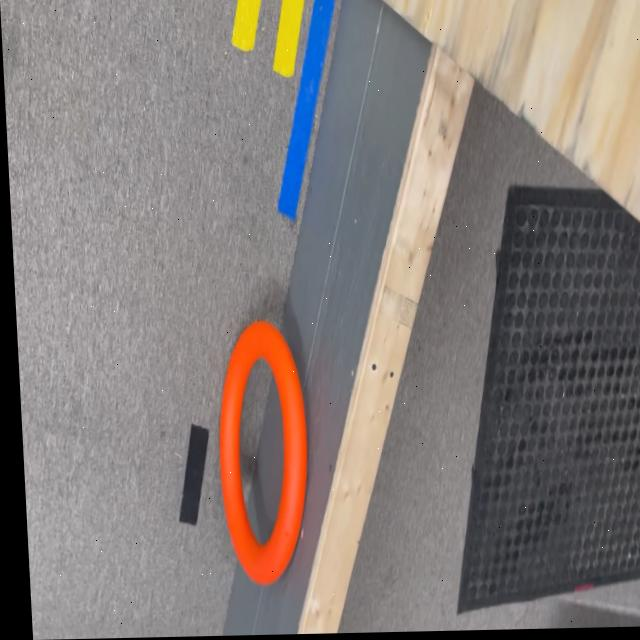note: (206, 321, 311, 587)
